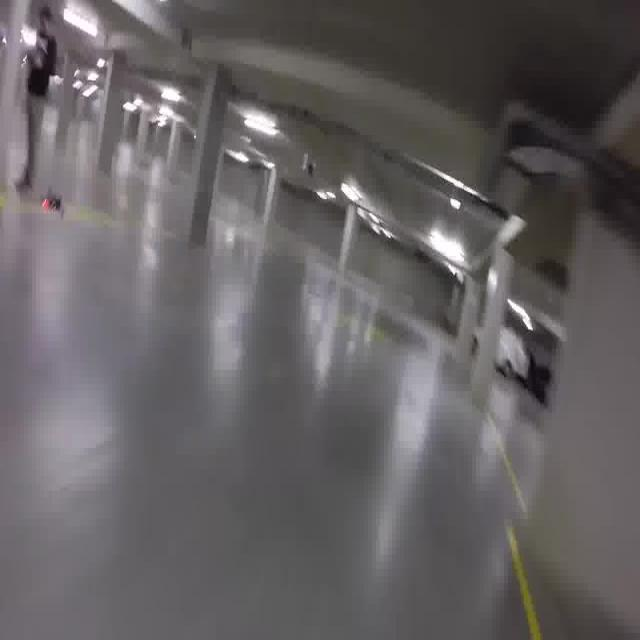drones: (29, 178, 72, 231)
